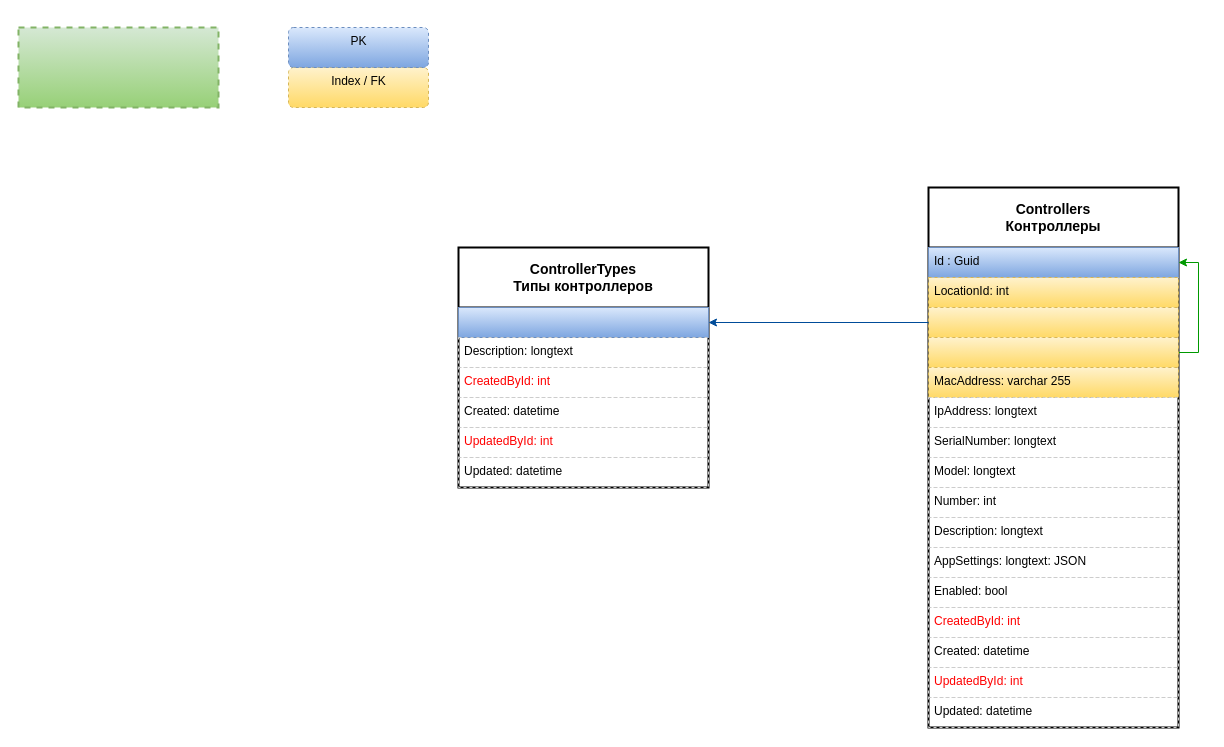
Some shapes in this 1224 by 747 pixel diagram are drawn without their labels. The shapes that lost their labels are listed below. From the top down, each one's centre as x and y in pixels, then its label:
At point (118, 67): "IoT".
At point (583, 322): "Id : varchar 255".
At point (1053, 322): "ControllerTypeId: varchar 255".
At point (1053, 352): "ParentId: Guid".
